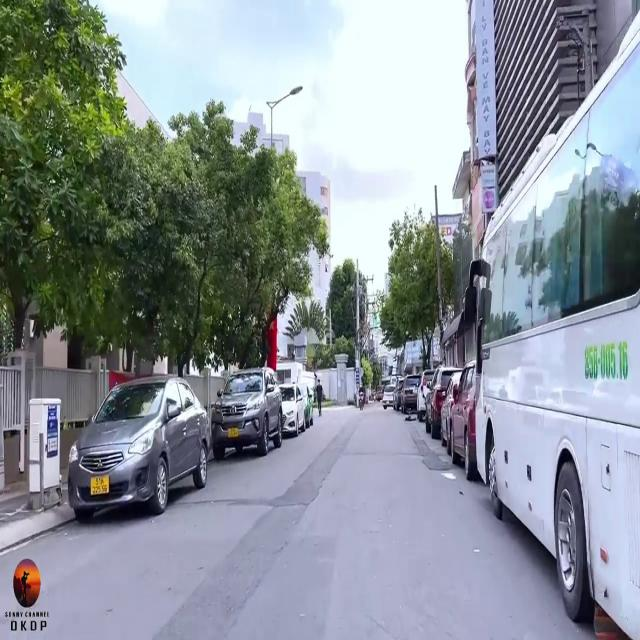bien_vang: (88, 474, 112, 500), (225, 429, 240, 440)
